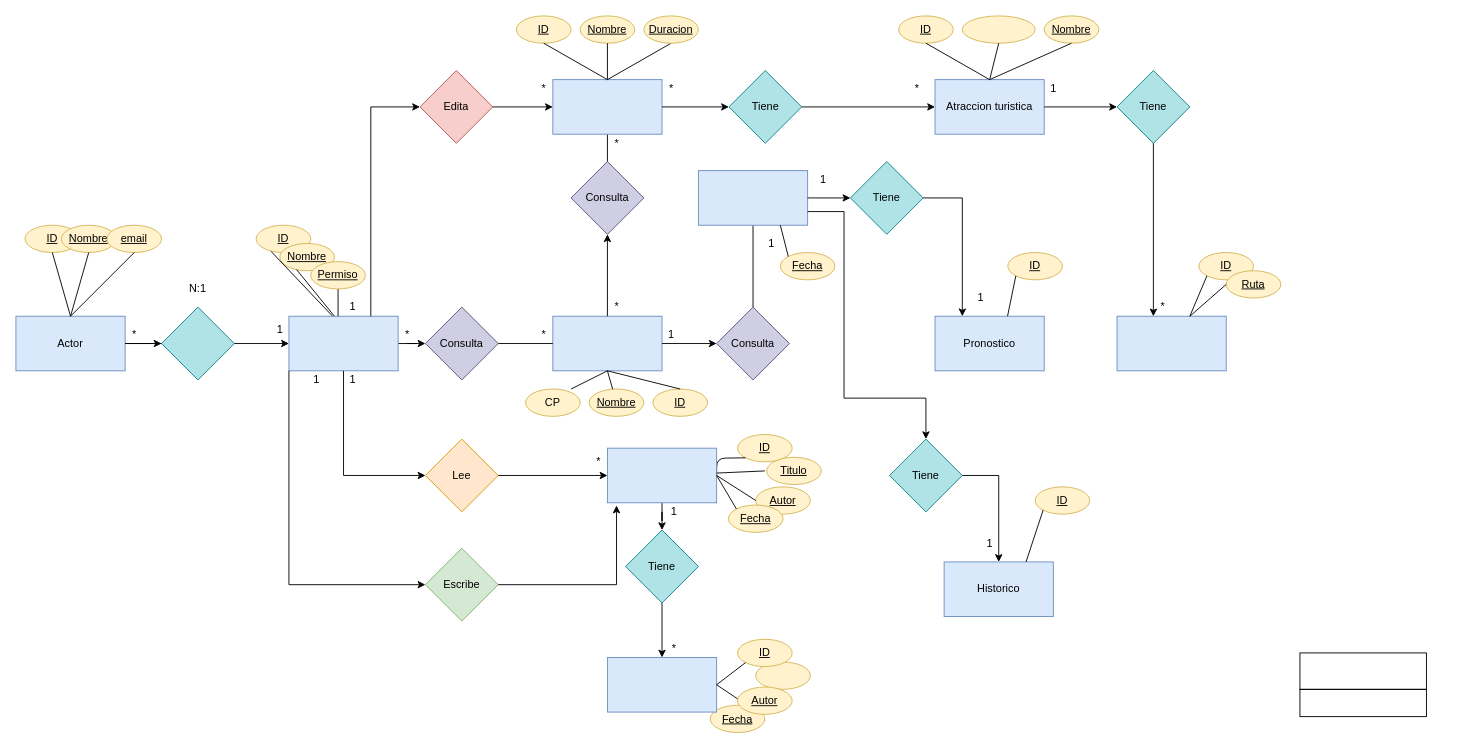
Image size: 1461x749. Some labels were removed from this diagram. Here are the shapes that lost their labels. From the top down, the box of each, then its label:
(961, 15, 1035, 43): Puntaje
(552, 79, 662, 134): Recorrido turistico
(698, 170, 808, 225): Clima
(161, 306, 234, 380): Tiene un
(288, 315, 398, 371): Rol
(552, 315, 662, 371): Localidad
(1116, 315, 1226, 371): Fotos
(607, 447, 717, 503): Tópico
(607, 657, 717, 712): Comentarios
(755, 661, 810, 689): Mensaje
(1299, 652, 1426, 689): DER GRUPO 1B VIAJAR 365
